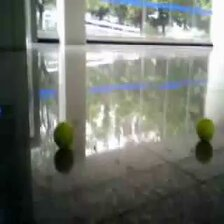tennis: (54, 121, 73, 148), (197, 118, 214, 143)
